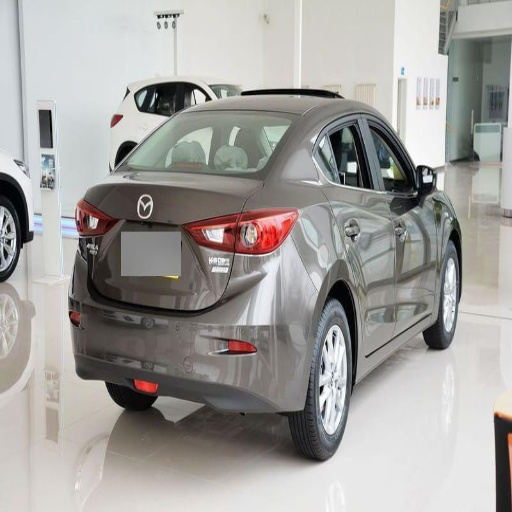_background_: (67, 248, 316, 410)
back_bumper: (127, 111, 305, 176)
back_left_light: (318, 113, 395, 357)
back_right_door: (240, 212, 297, 255)
front_left_light: (363, 112, 432, 334)
right_mirror: (85, 172, 260, 312)
trunk: (289, 300, 354, 460), (425, 246, 460, 349)
